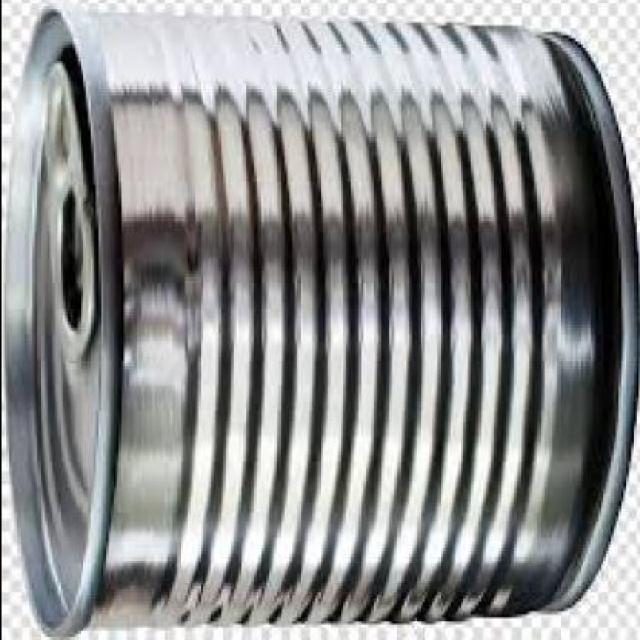METAL: (1, 4, 638, 638)
